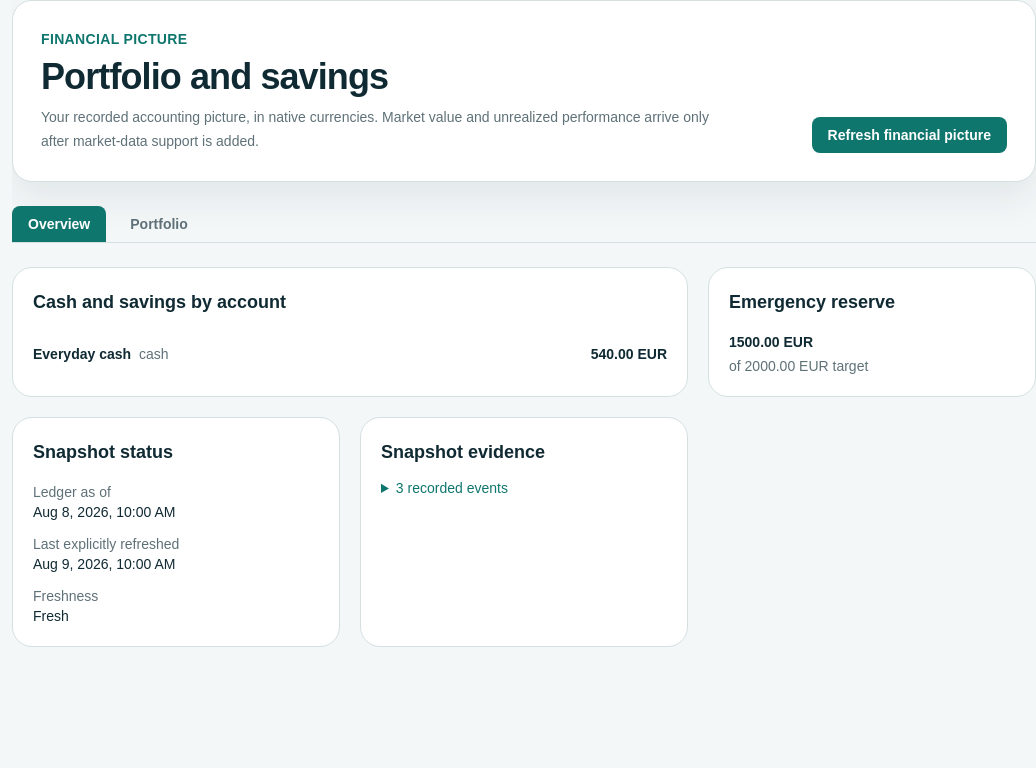
Test case: FinancialDashboard › provides the portfolio view with positions, FIFO basis, and realized results
Expected: the text "540.00 EUR" is shown, [591, 344, 667, 364]
Step 1. Click the tab "Portfolio" → click(159, 224), box [114, 206, 204, 242]
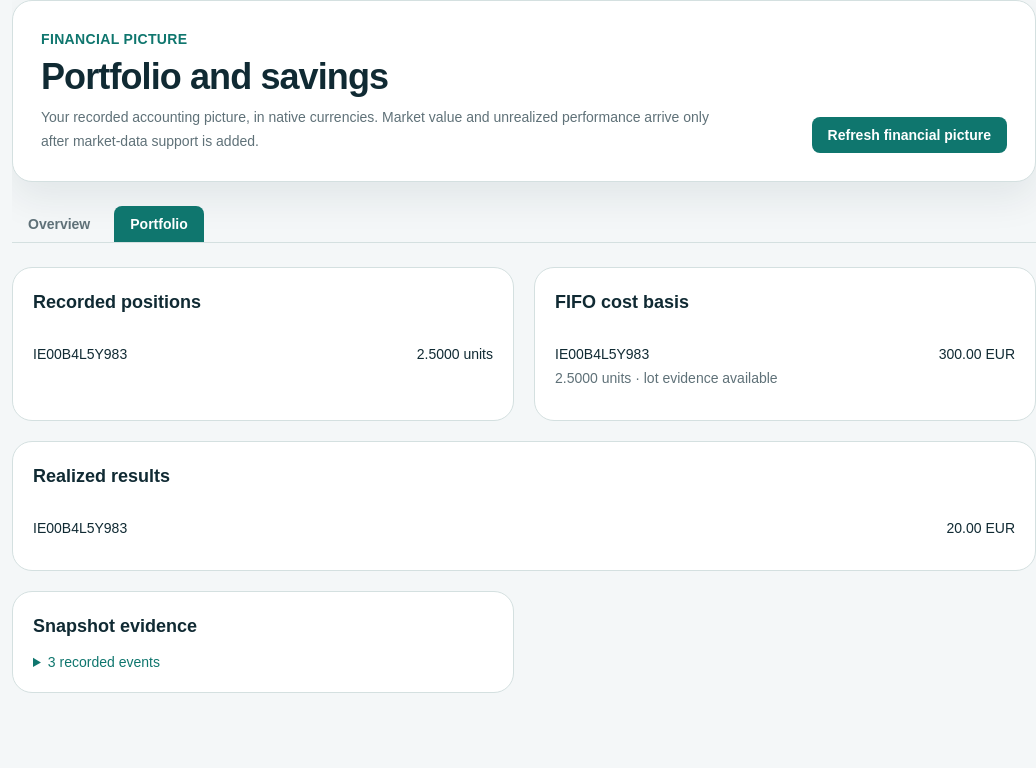
Now the text "2.5000 units" is shown, box [417, 344, 493, 364]
Now the text "300.00 EUR" is shown, box [939, 344, 1015, 364]
Now the text "20.00 EUR" is shown, box [946, 518, 1015, 538]
